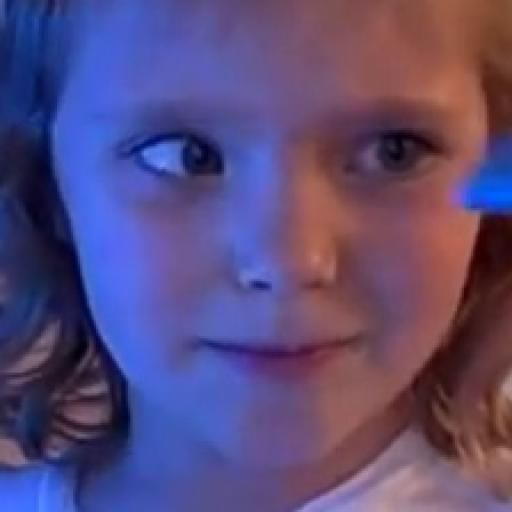Autism: (23, 4, 512, 512)
